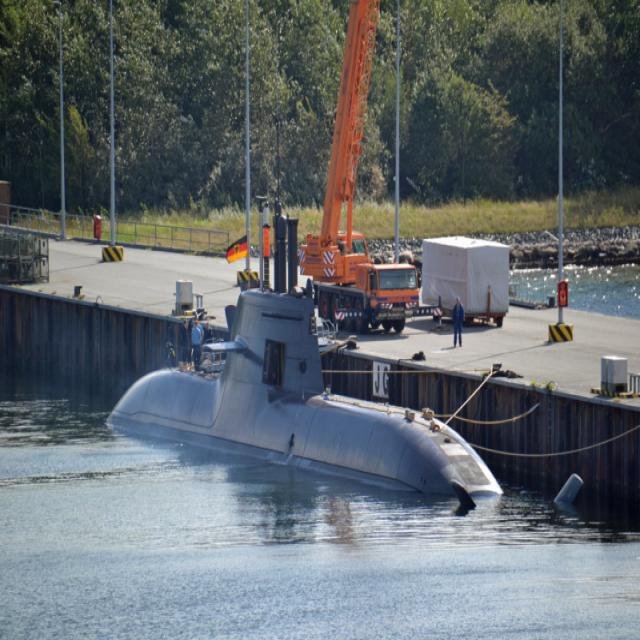submarine: (103, 287, 506, 494)
